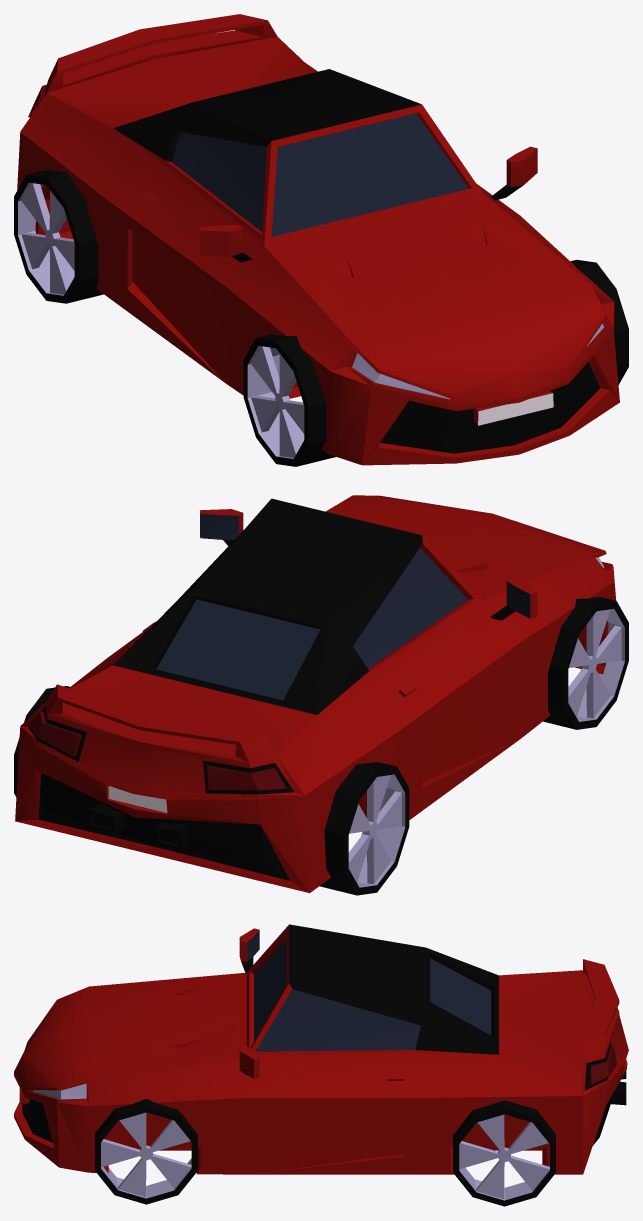
File: scree.glb
3 views of the same model, one above another, from view 1: azimuth 30°, elevation 25°; view 2: azimuth 150°, elevation 25°; view 3: azimuth 270°, elevation 25° (orthographic). The views are drawn at different scales.
Parts seen in each view (by area): view 1: paint, glass, trim, palette, chrome, headlight, tyre; view 2: paint, trim, glass, palette, taillight, rim, chrome; view 3: paint, trim, palette, glass, tyre, taillight, rim, headlight.
Part boxes in pixels (x1=…): paint: x1=17, y1=14, x2=619, y2=465; glass: x1=171, y1=113, x2=468, y2=236; trim: x1=44, y1=69, x2=600, y2=453; palette: x1=14, y1=169, x2=628, y2=466; chrome: x1=478, y1=393, x2=553, y2=425; headlight: x1=352, y1=324, x2=603, y2=399; tyre: x1=614, y1=293, x2=628, y2=366; paint: x1=15, y1=495, x2=616, y2=893; trim: x1=28, y1=498, x2=515, y2=880; glass: x1=156, y1=513, x2=530, y2=700; palette: x1=14, y1=596, x2=628, y2=895; taillight: x1=28, y1=711, x2=286, y2=790; rim: x1=568, y1=626, x2=622, y2=705; chrome: x1=108, y1=786, x2=167, y2=812; paint: x1=14, y1=924, x2=628, y2=1174; trim: x1=22, y1=924, x2=626, y2=1145; palette: x1=95, y1=1098, x2=555, y2=1206; glass: x1=247, y1=930, x2=491, y2=1051; tyre: x1=95, y1=1108, x2=190, y2=1204; taillight: x1=589, y1=1046, x2=616, y2=1084; rim: x1=146, y1=1157, x2=191, y2=1197; headlight: x1=33, y1=1083, x2=86, y2=1099.
Size of what is drawn, in the model's own units: 2 by 1.34 by 3.96.
12 materials, 3 textured.
